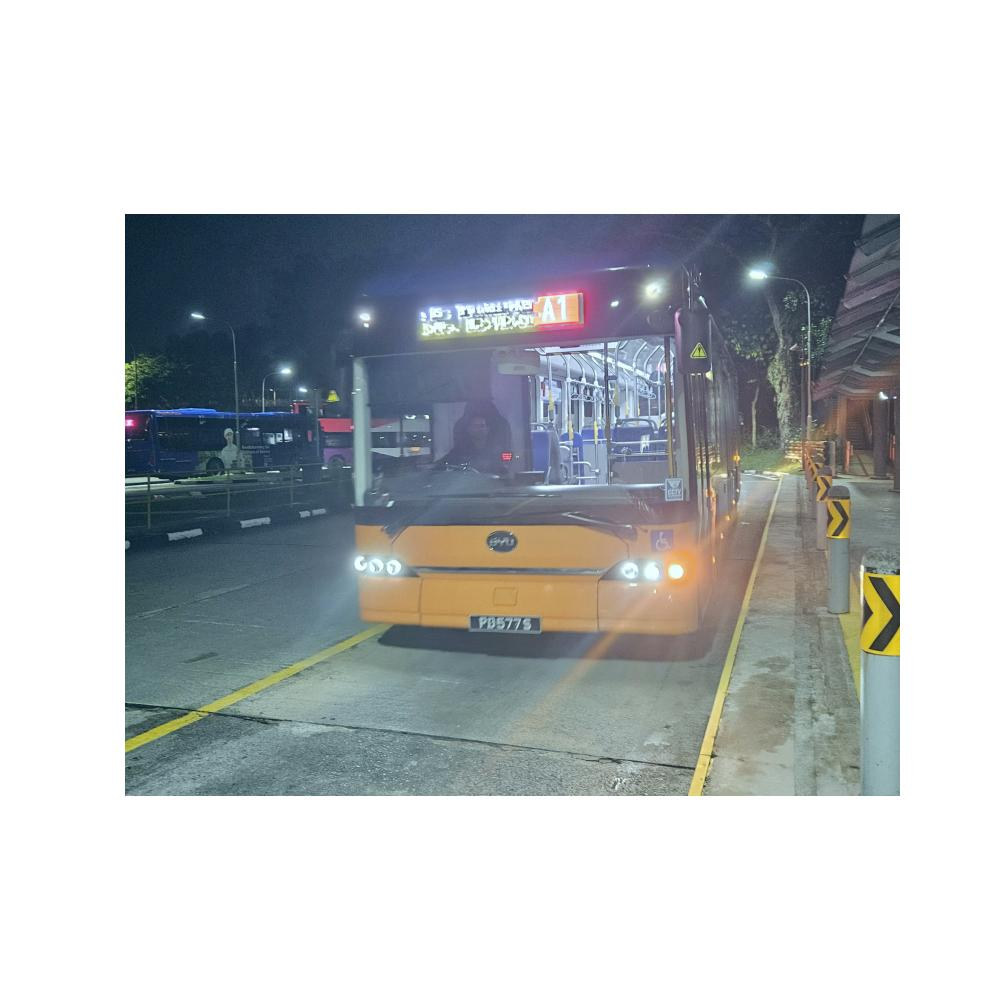bus: (326, 259, 752, 655), (125, 403, 324, 482)
